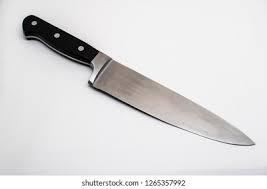Knife: (21, 14, 255, 146)
